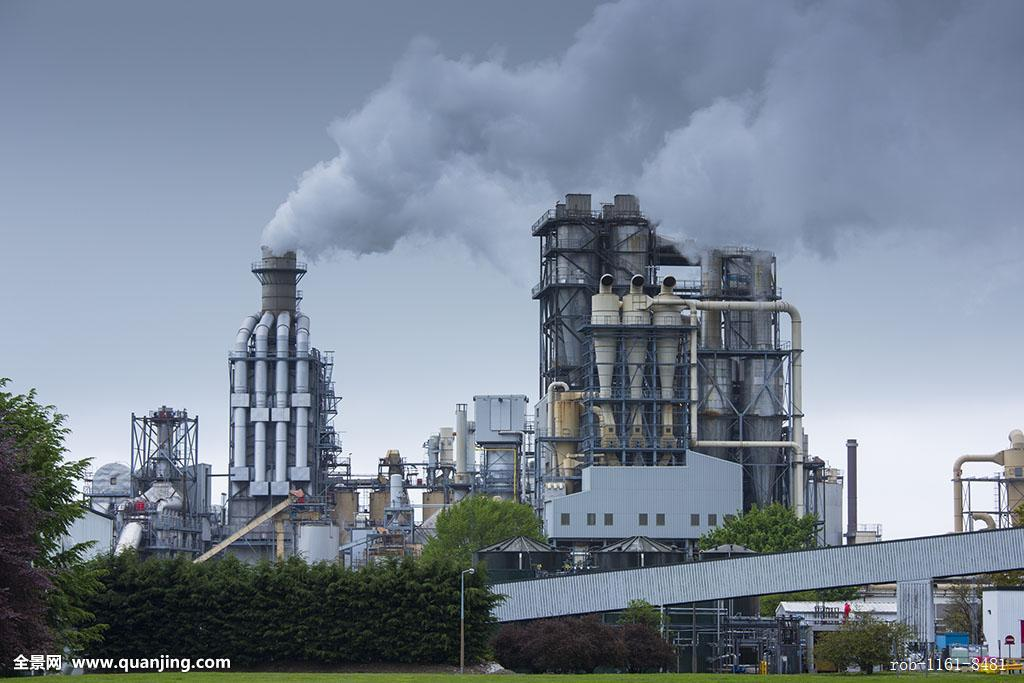dust: (245, 47, 533, 276)
